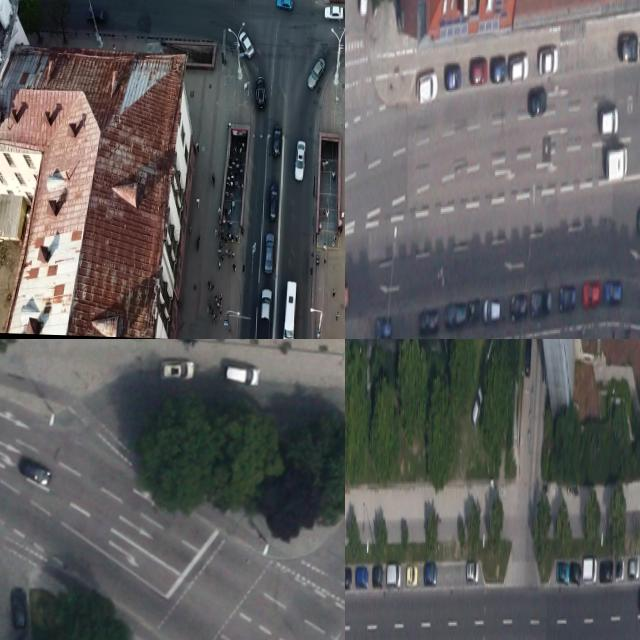UAI: (18, 454, 54, 487), (224, 362, 260, 387), (10, 586, 29, 629), (160, 358, 194, 381), (416, 71, 439, 104), (470, 382, 484, 433), (445, 301, 467, 332), (259, 289, 272, 338), (618, 31, 639, 61), (531, 288, 552, 318), (419, 308, 440, 338), (306, 57, 325, 90), (527, 86, 547, 117), (509, 53, 529, 83), (510, 292, 528, 323), (444, 60, 462, 90), (559, 283, 577, 313), (599, 108, 619, 134), (539, 48, 559, 74), (483, 297, 501, 325), (294, 140, 306, 181), (238, 30, 255, 58), (469, 57, 487, 83), (604, 280, 622, 306), (582, 282, 600, 308), (254, 76, 267, 110), (490, 57, 507, 83), (375, 314, 392, 339), (264, 232, 274, 274), (386, 561, 401, 587), (269, 182, 279, 220), (583, 556, 597, 583), (468, 298, 481, 325), (324, 4, 345, 20), (423, 561, 437, 585), (86, 7, 106, 23), (272, 124, 282, 155), (356, 566, 369, 589), (600, 559, 613, 582), (524, 339, 532, 375), (372, 564, 384, 588), (467, 560, 479, 583), (569, 561, 581, 584), (557, 562, 570, 583), (407, 563, 418, 586), (629, 557, 640, 578), (616, 557, 625, 580), (275, 0, 293, 10), (358, 0, 369, 15), (345, 566, 351, 589)
harvester: (281, 279, 297, 339), (605, 145, 630, 181)
